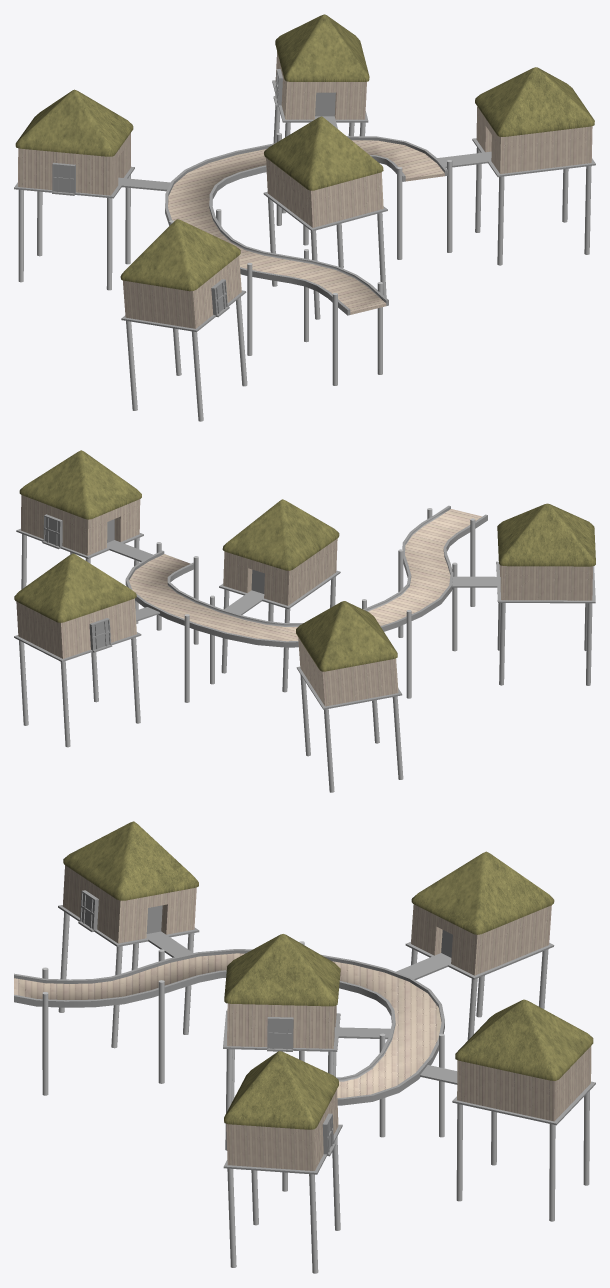
The model's file is Village.fbx.
The picture shows the model from 3 angles, top to bottom: view 1: azimuth 30°, elevation 25°; view 2: azimuth 150°, elevation 25°; view 3: azimuth 270°, elevation 25°; orthographic projection. The views are drawn at different scales.
Visible parts, largest first — view 1: Roof (×5), House (×5), polySurface13, Rondins (×4), polySurface24, Window; view 2: Roof (×5), House (×5), polySurface13, Rondins (×5), polySurface24, Window (×2); view 3: Roof (×5), House (×5), polySurface13, Rondins (×5), polySurface24, Window (×2).
Boxes of the visible parts, x1=… form: Roof (×5): x1=15, y1=14, x2=594, y2=291; House (×5): x1=14, y1=51, x2=595, y2=331; polySurface13: x1=165, y1=136, x2=447, y2=315; Rondins (×4): x1=18, y1=147, x2=591, y2=421; polySurface24: x1=169, y1=133, x2=452, y2=385; Window: x1=52, y1=162, x2=75, y2=193; Roof (×5): x1=14, y1=450, x2=595, y2=671; House (×5): x1=14, y1=495, x2=595, y2=709; polySurface13: x1=125, y1=505, x2=487, y2=647; Rondins (×5): x1=19, y1=534, x2=592, y2=792; polySurface24: x1=156, y1=508, x2=475, y2=702; Window (×2): x1=43, y1=514, x2=110, y2=650; Roof (×5): x1=63, y1=821, x2=593, y2=1129; House (×5): x1=58, y1=865, x2=595, y2=1174; polySurface13: x1=14, y1=949, x2=444, y2=1105; Rondins (×5): x1=58, y1=912, x2=589, y2=1273; polySurface24: x1=42, y1=941, x2=444, y2=1191; Window (×2): x1=80, y1=890, x2=293, y2=1049.
Bounding box in the file's own units: 60.23 × 20.13 × 51.57.
